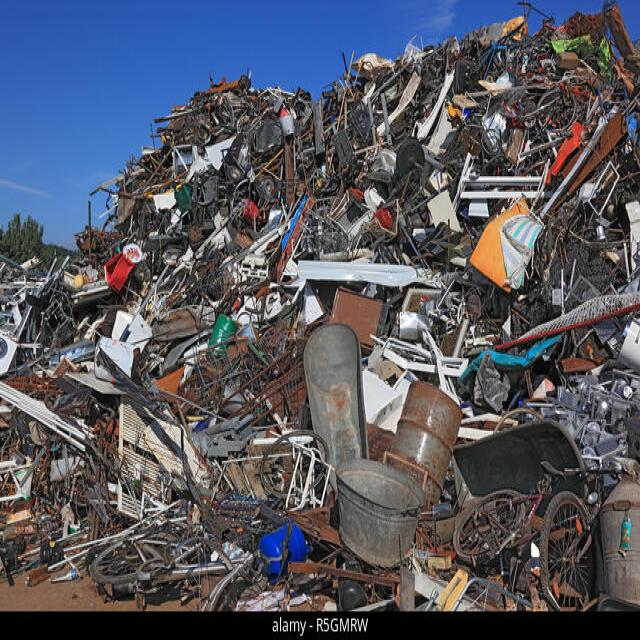metal: (163, 125, 594, 531)
